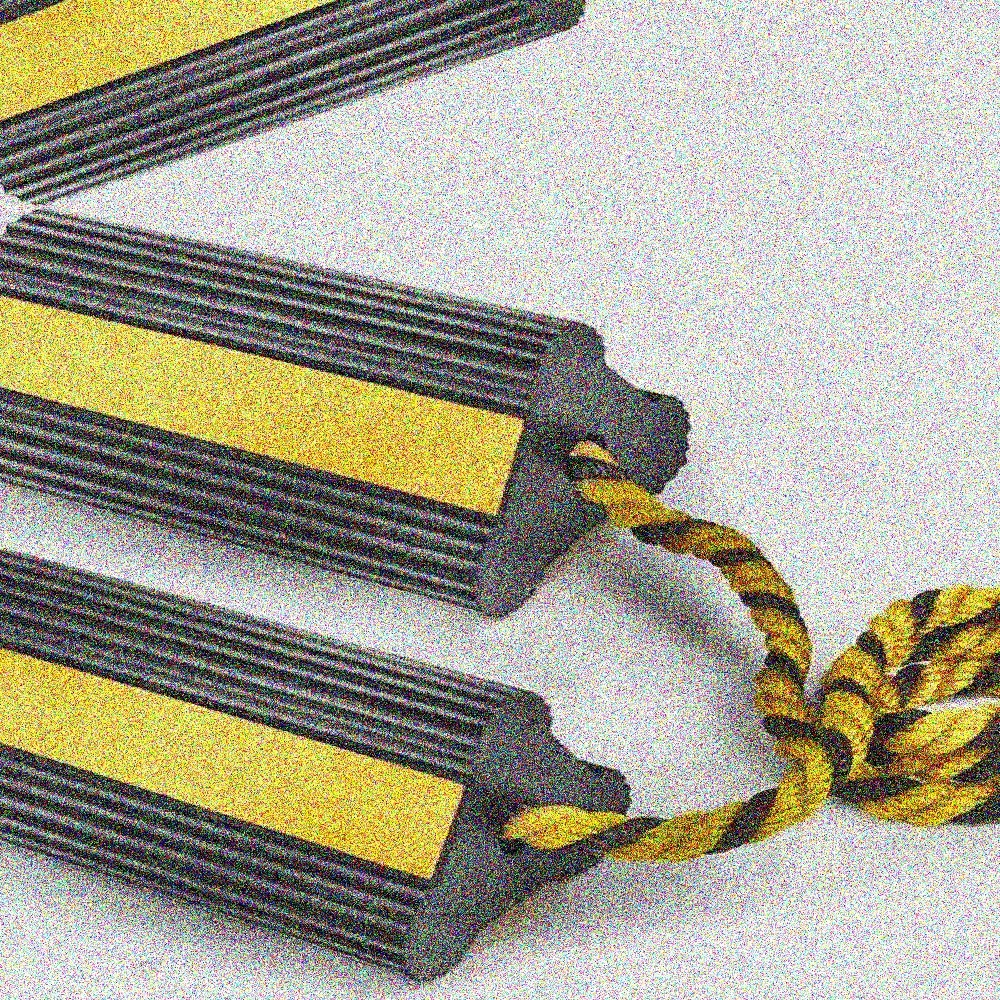chock: (0, 174, 709, 649), (0, 508, 644, 1000), (0, 0, 684, 210)
